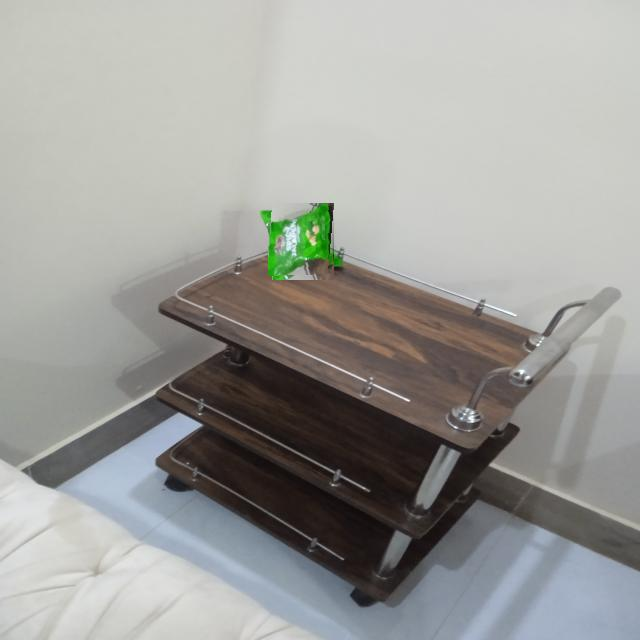Plastic: (268, 206, 338, 276)
